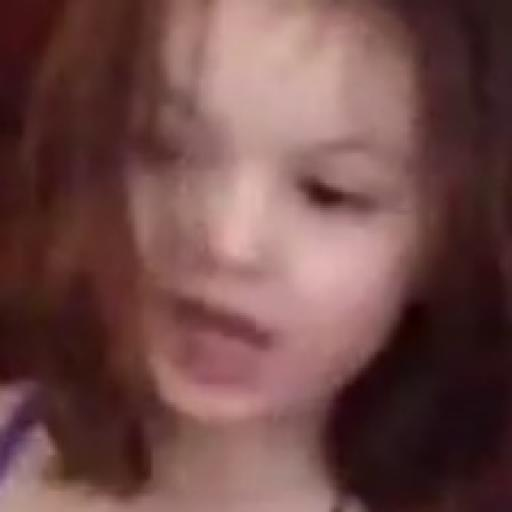Autism: (98, 3, 483, 436)
